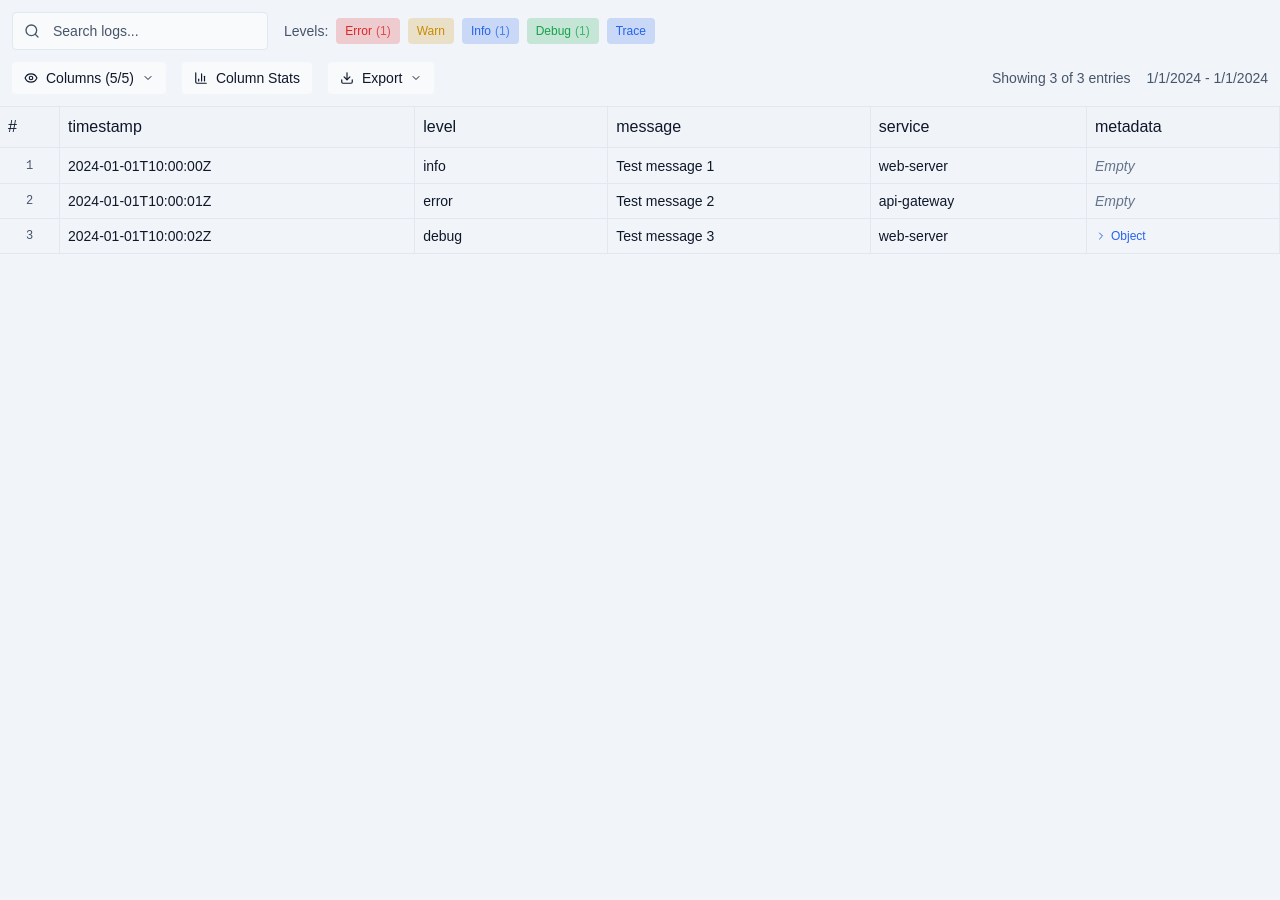
JsonLogViewer › should open nested object popover on click
Click the button "Object". click: (1120, 236)
box: [1095,228,1146,244]
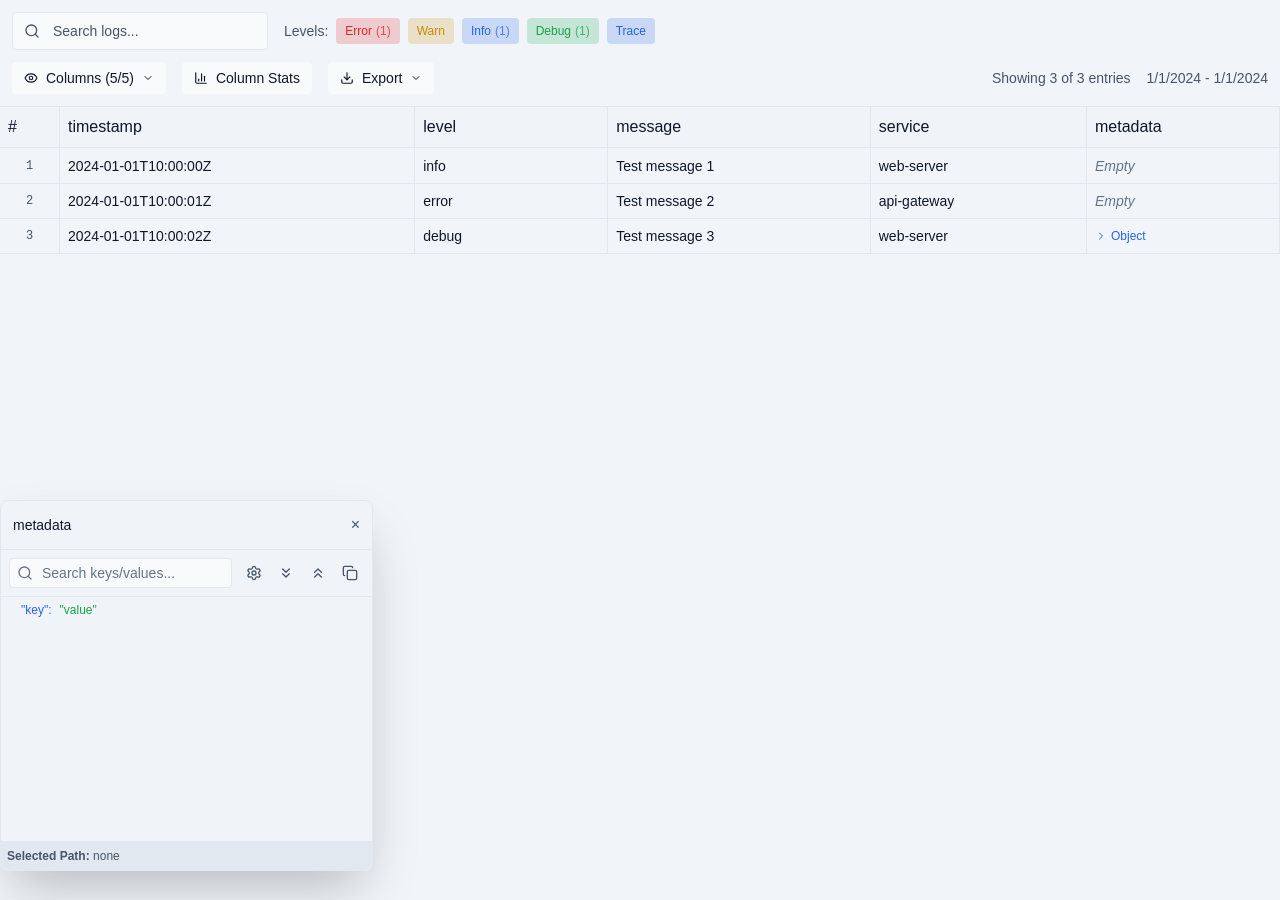
Now the element with test id "json-tree-view" is shown, box [1,550,372,870]
